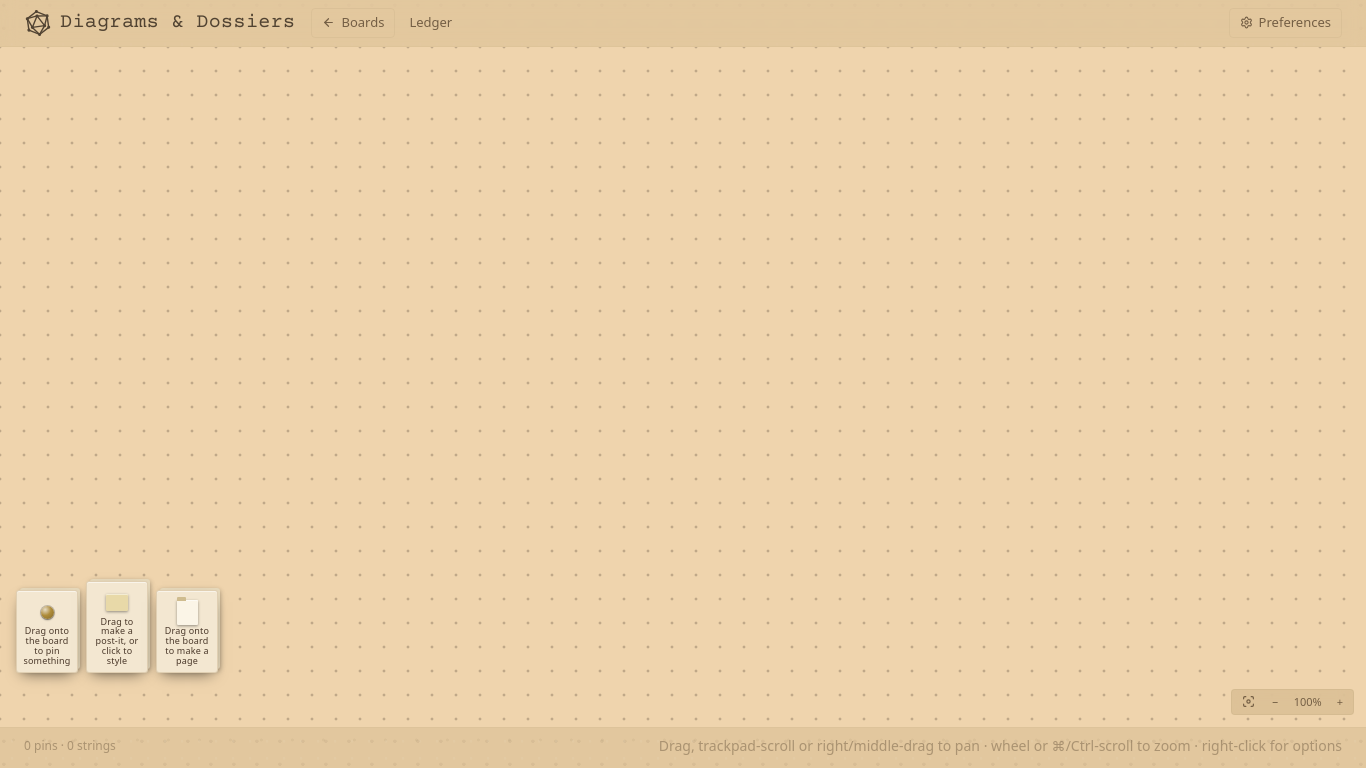
Test: App — the boards library › walks back out of a board to the library
The image size is (1366, 768).
Step 1. Click the button with test id "back-to-boards" → [354, 23], box [312, 8, 396, 38]
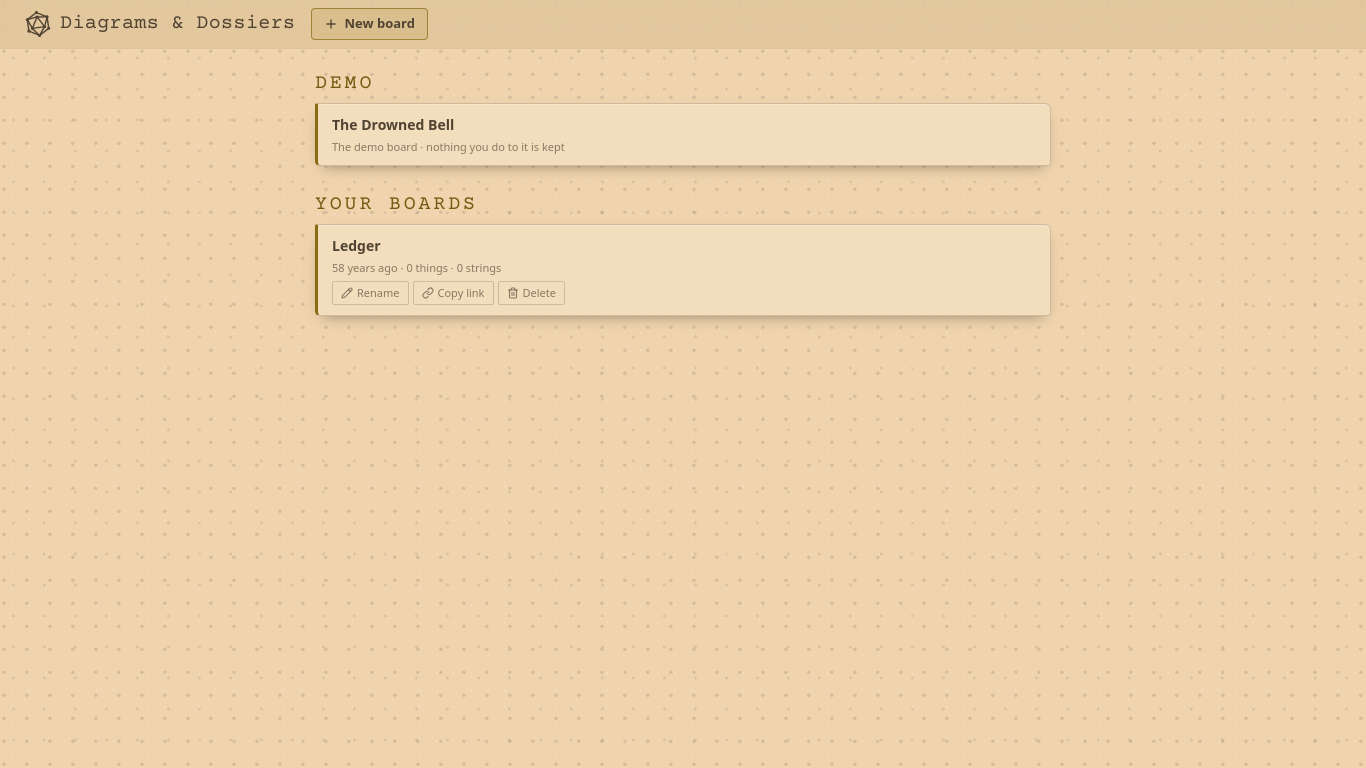
Result: the element with test id "library" is shown at [315, 72, 1051, 316]
